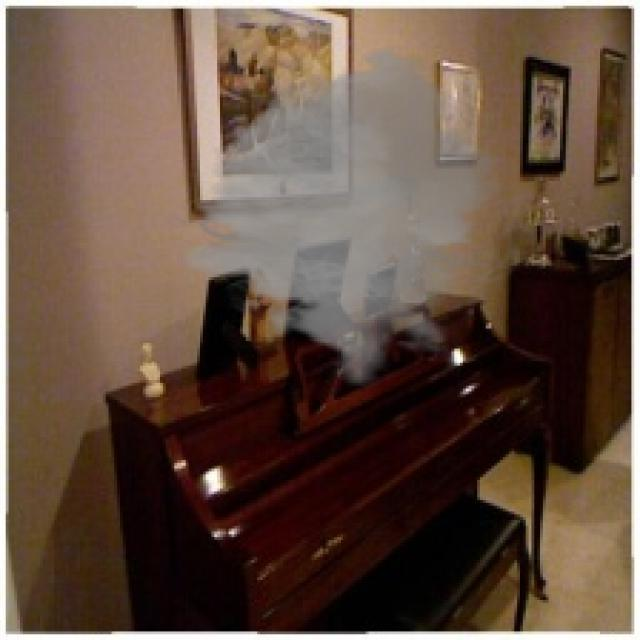Smoke: (166, 46, 532, 388)
